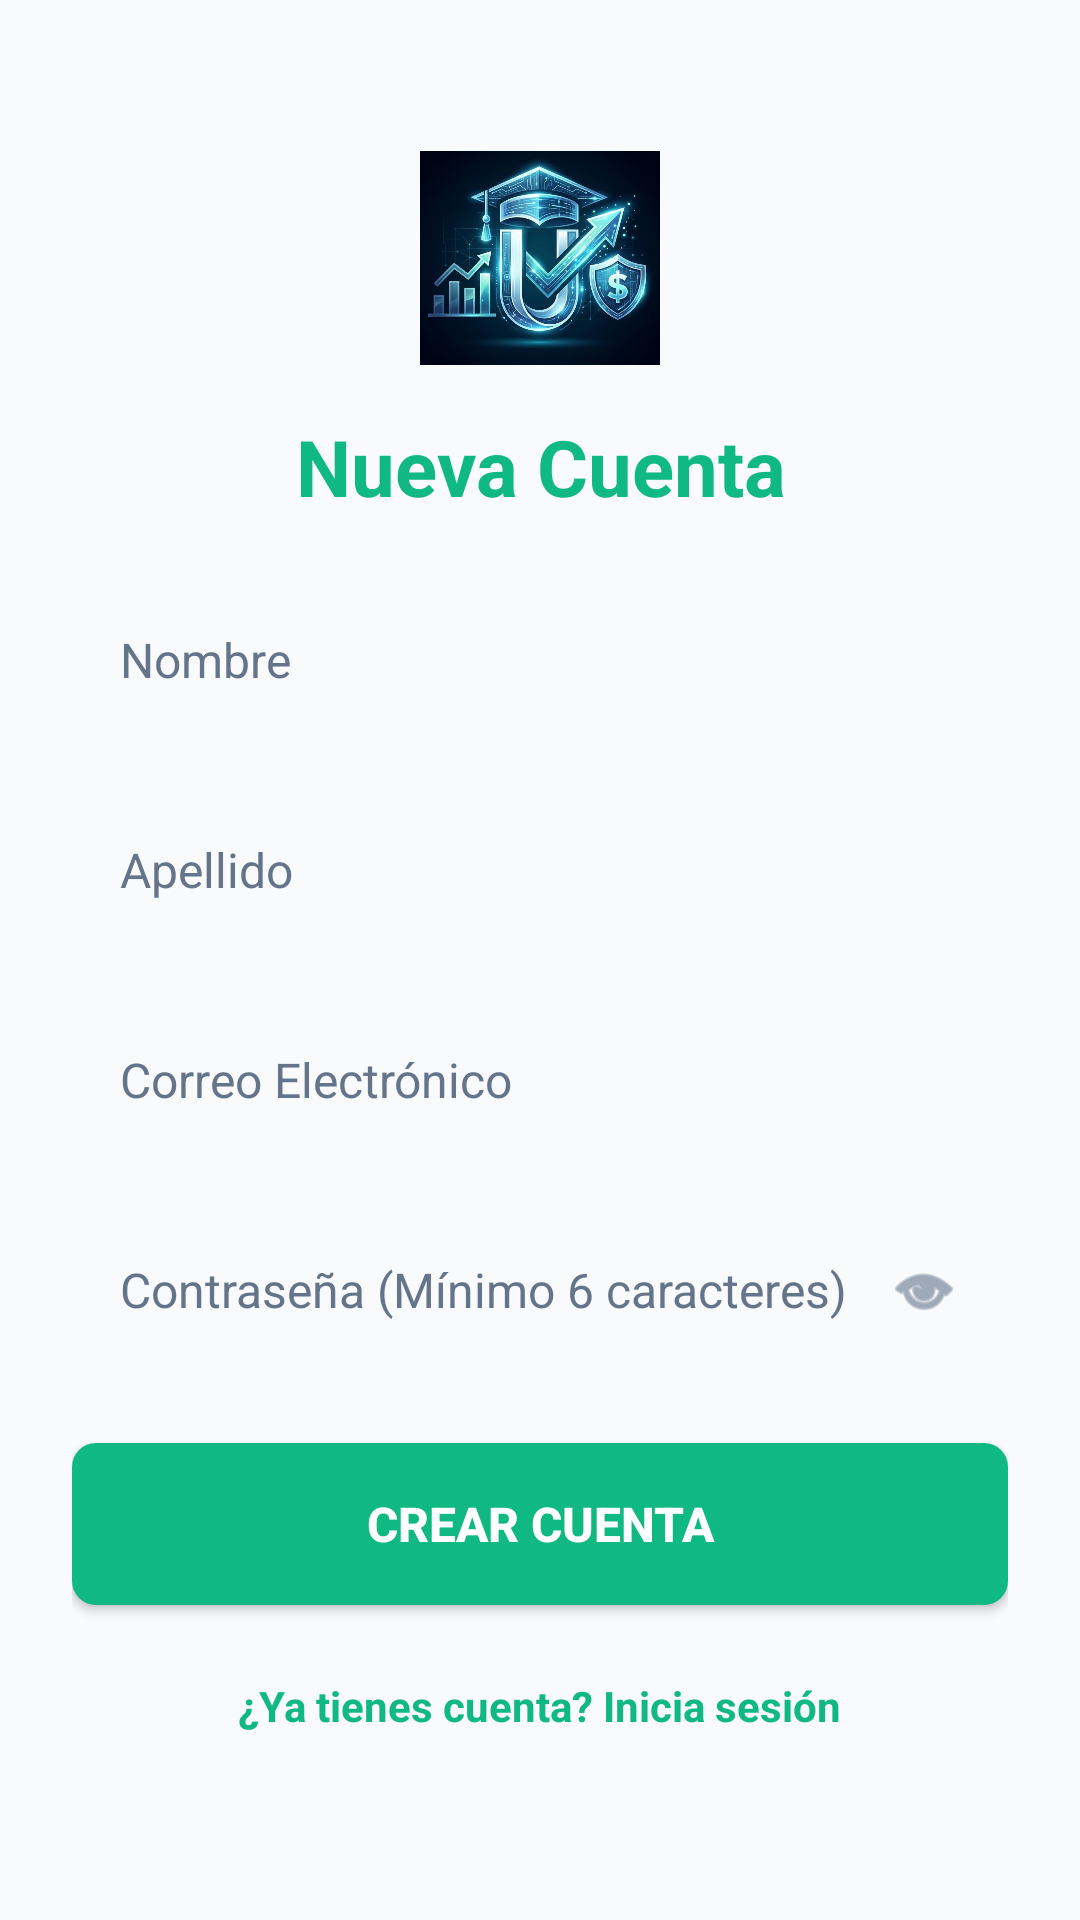

Icon click points for this 1080×1920 phone screenshot, format (x,y):
Mostrar u ocultar: (924,1292)
